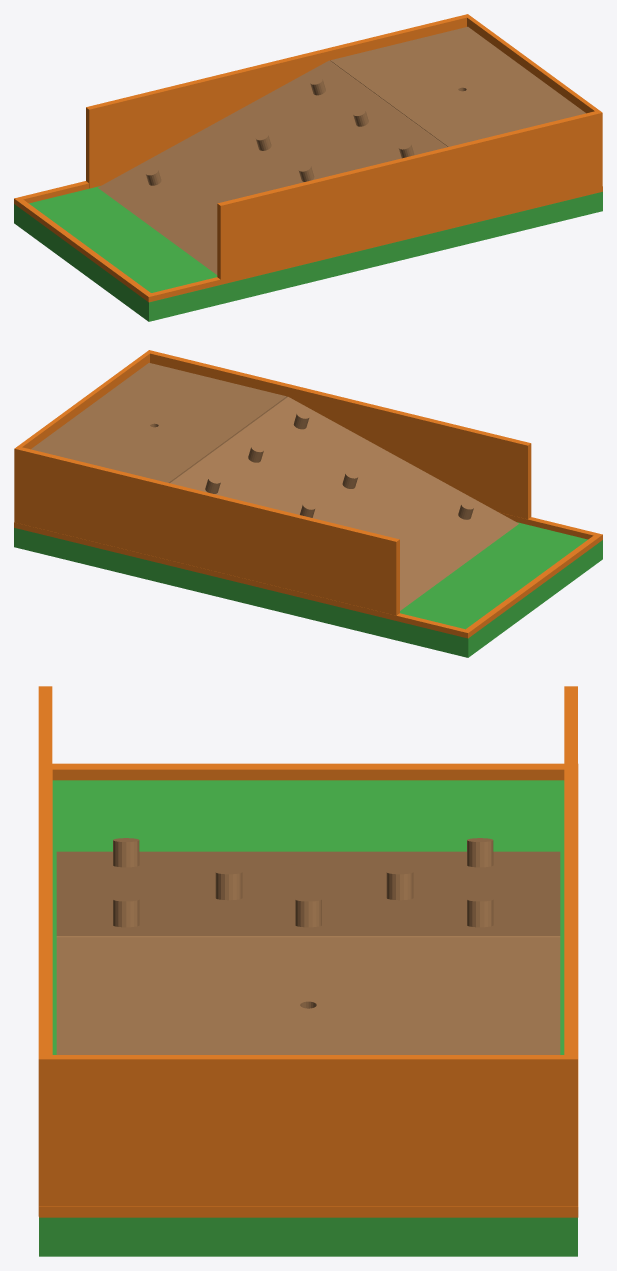
File: tinker.obj
3 renders of one model, top to bottom at view 1: azimuth 30°, elevation 25°; view 2: azimuth 150°, elevation 25°; view 3: azimuth 270°, elevation 25°, orthographic. The views are drawn at different scales.
Parts seen in each view (by area): view 1: group_0_16089887, group_0_11107152, group_0_4634441; view 2: group_0_16089887, group_0_11107152, group_0_4634441; view 3: group_0_16089887, group_0_11107152, group_0_4634441.
Boxes of the visible parts, left/top/right/bottom form: group_0_16089887: left=14, top=14, right=602, bottom=302; group_0_11107152: left=98, top=26, right=585, bottom=274; group_0_4634441: left=14, top=186, right=602, bottom=321; group_0_16089887: left=14, top=350, right=602, bottom=638; group_0_11107152: left=31, top=363, right=518, bottom=610; group_0_4634441: left=14, top=522, right=602, bottom=657; group_0_16089887: left=38, top=686, right=578, bottom=1217; group_0_11107152: left=56, top=838, right=560, bottom=1054; group_0_4634441: left=39, top=780, right=577, bottom=1256.
Bounding box in the file's own units: 158 × 32.8 × 81.39.
